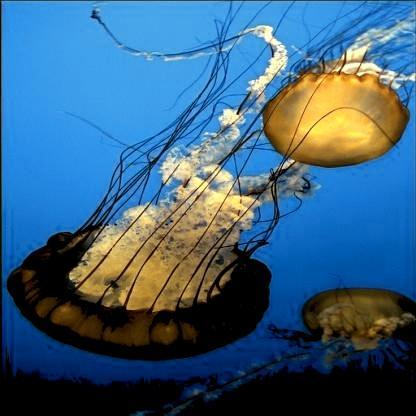Dressed: (7, 28, 333, 360), (264, 23, 413, 169), (286, 287, 416, 388)
